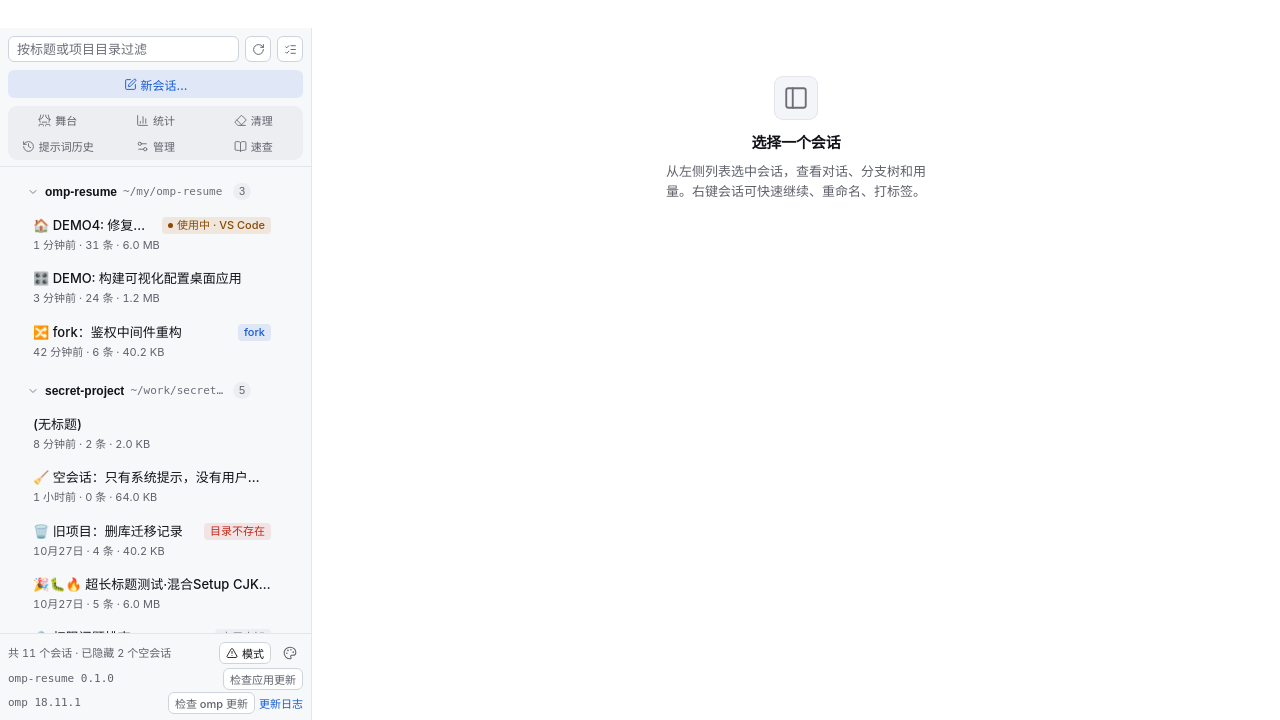
手动检查更新 › 侧栏按钮：已是最新→提示当前版本
Click the button "检查应用更新" at (263, 679), box [223,668,303,690]
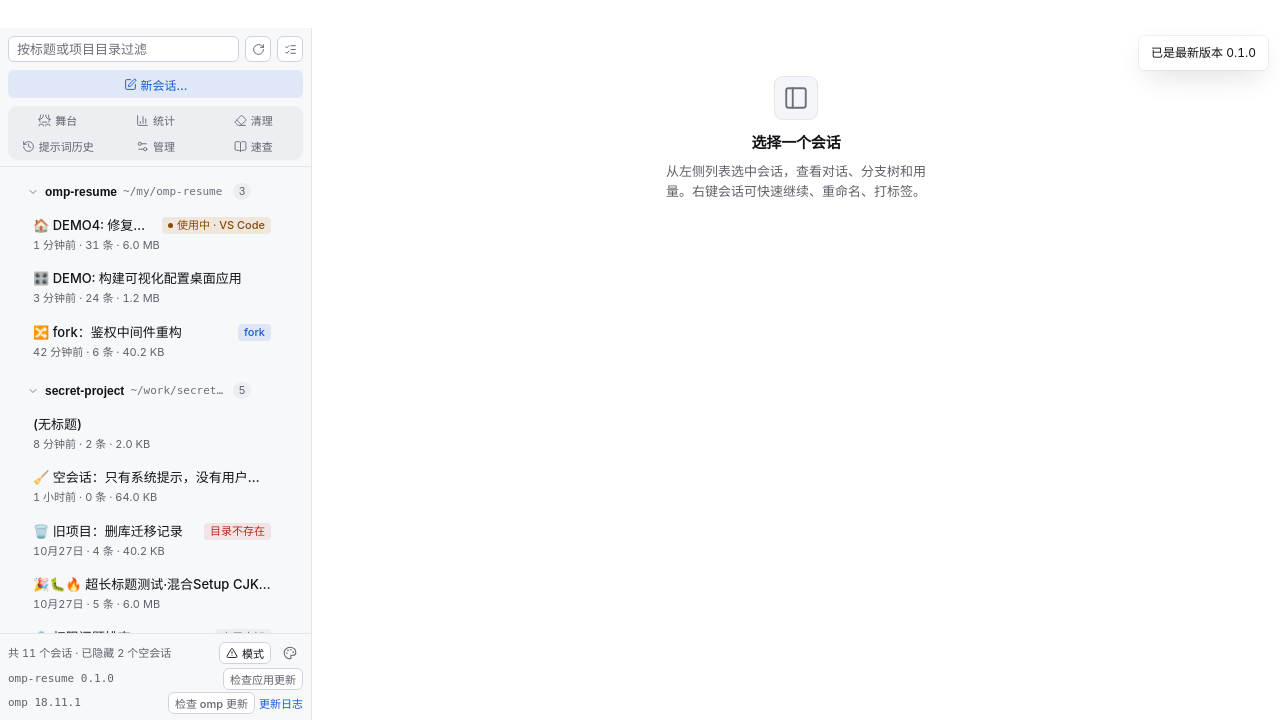
Check: the text "已是最新版本 0.1.0" is shown, box [1139,36,1268,70]
